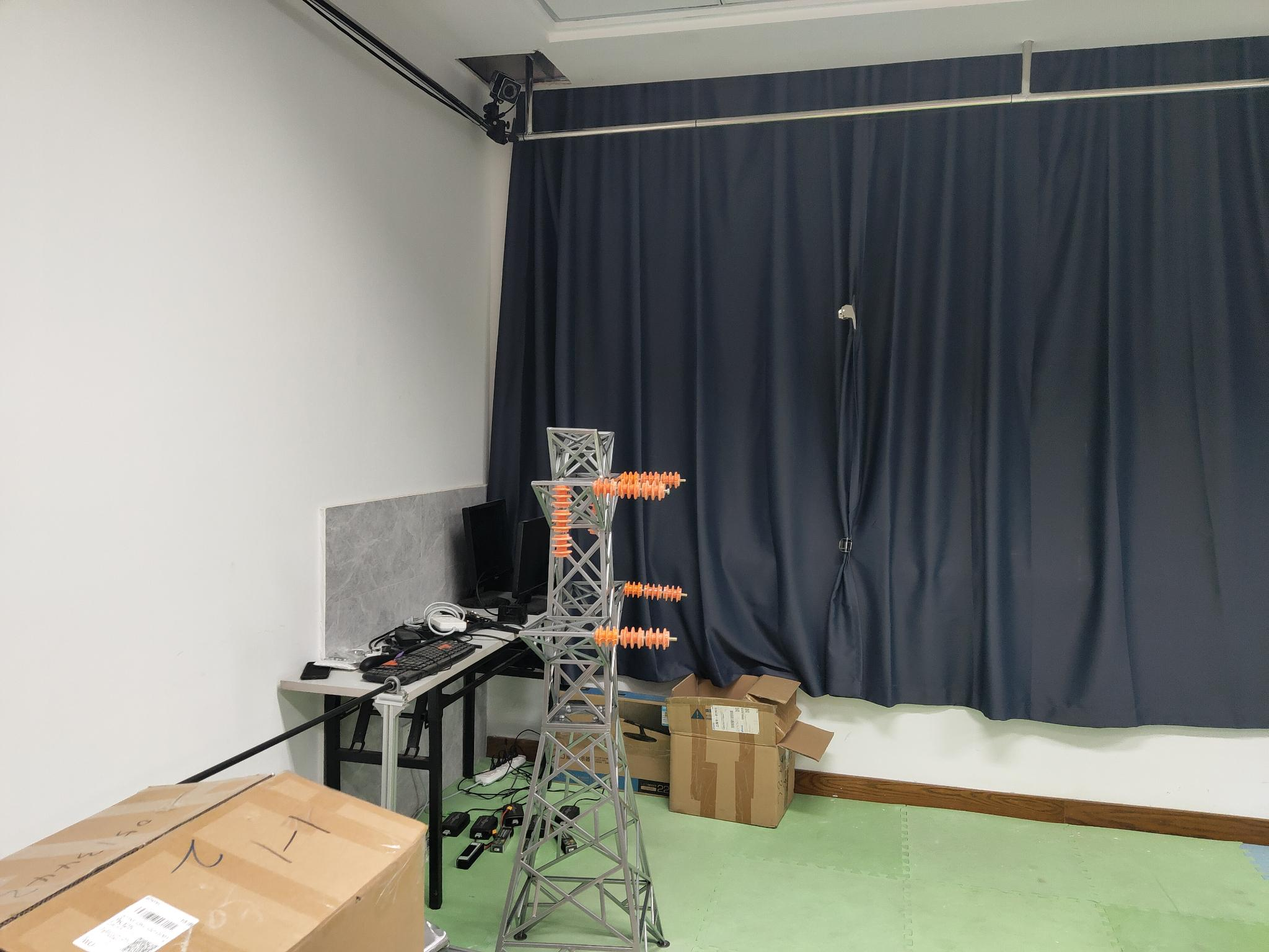tower: (495, 426, 666, 952)
